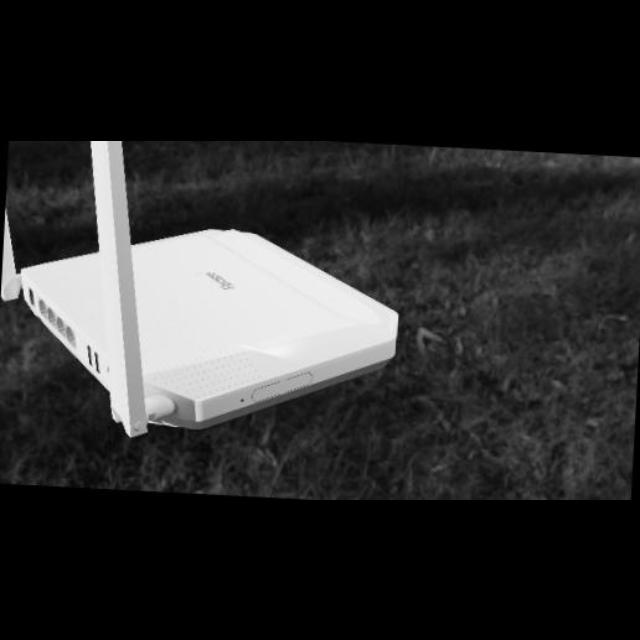Router: (4, 141, 402, 437)
